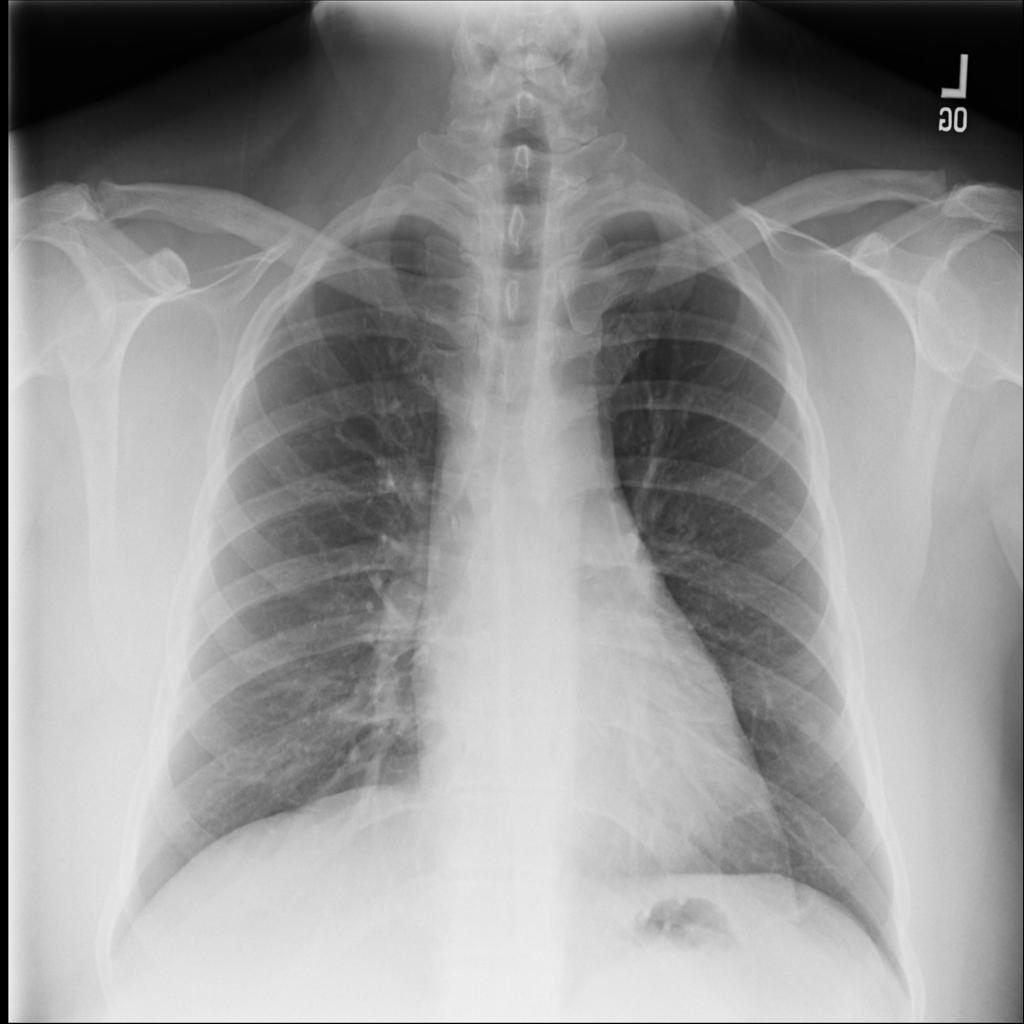nodule: (785, 703, 837, 755)
